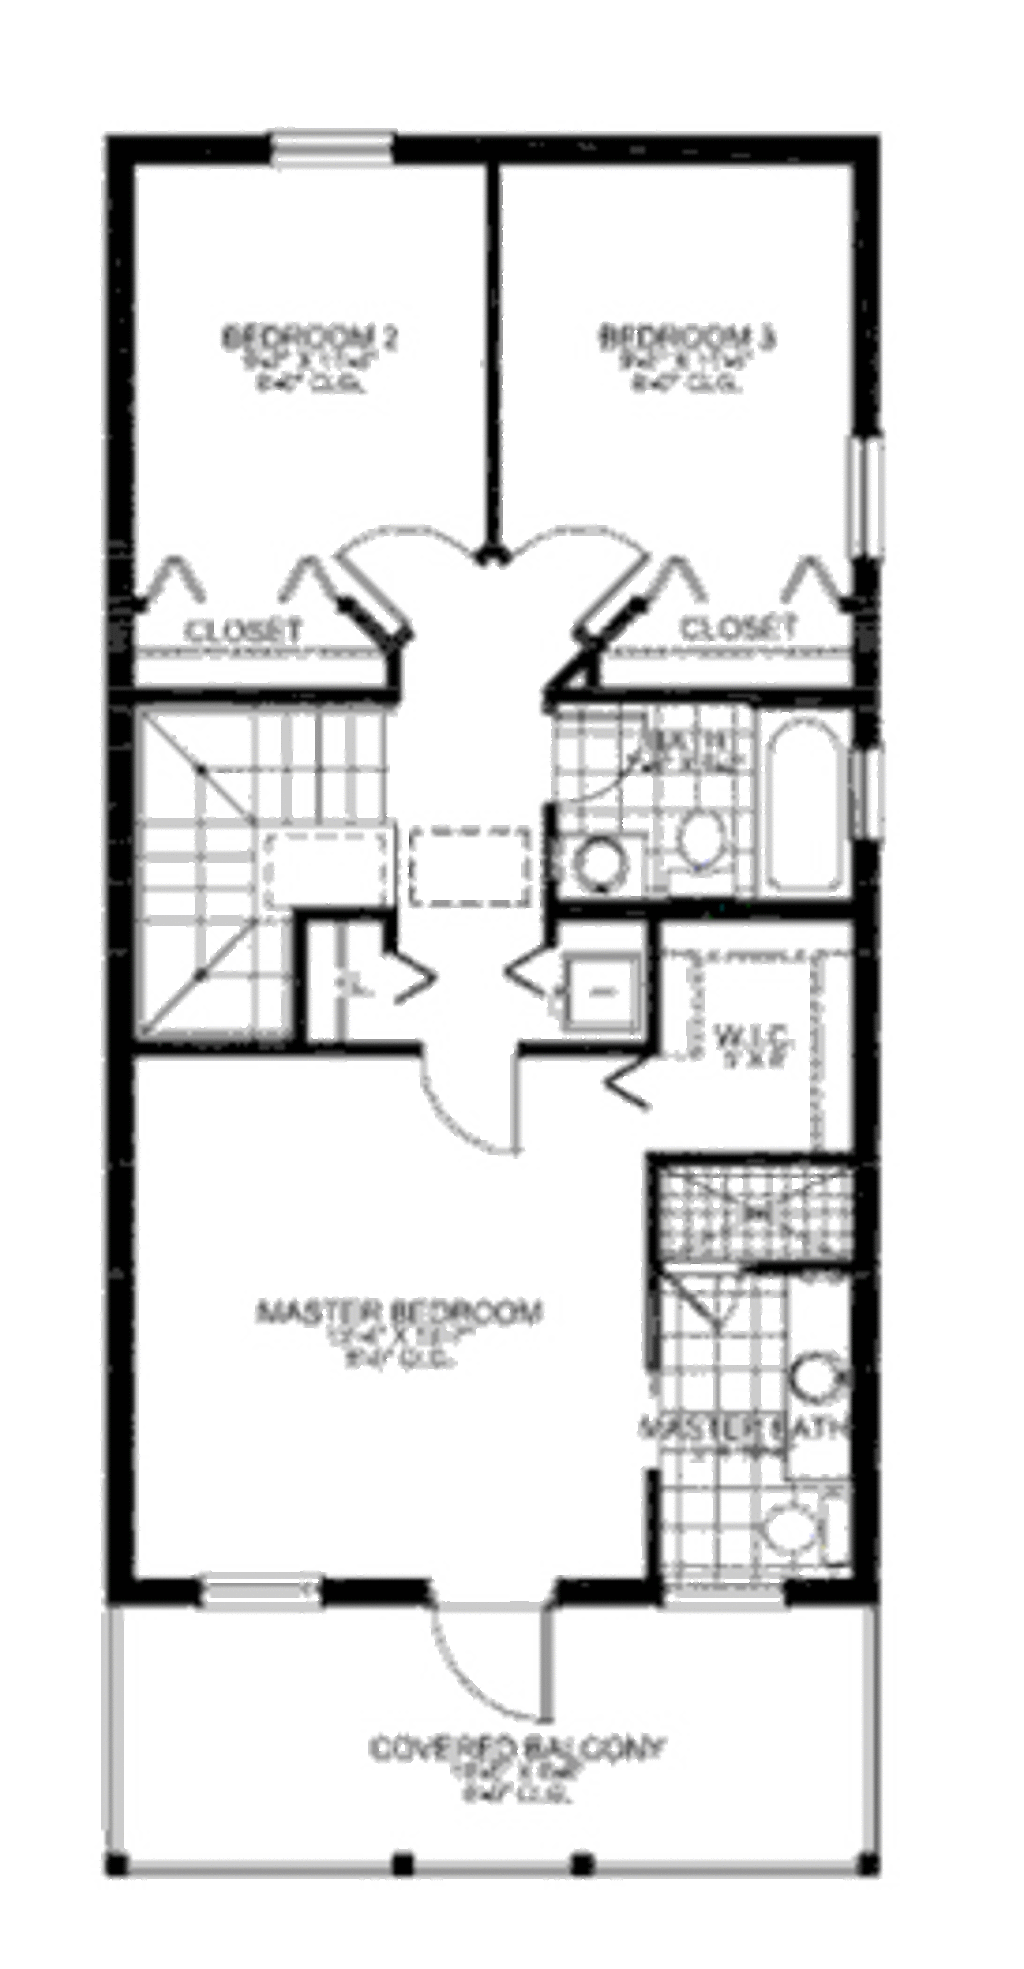door: (425, 1574, 554, 1732), (334, 512, 477, 632), (500, 514, 644, 624), (423, 1037, 529, 1172)
large_sink: (760, 1482, 856, 1576)
stairs: (132, 707, 391, 1063)
tub: (743, 705, 855, 895)
windows: (250, 122, 390, 176), (195, 1560, 330, 1613), (842, 428, 891, 568), (651, 1572, 791, 1617)
